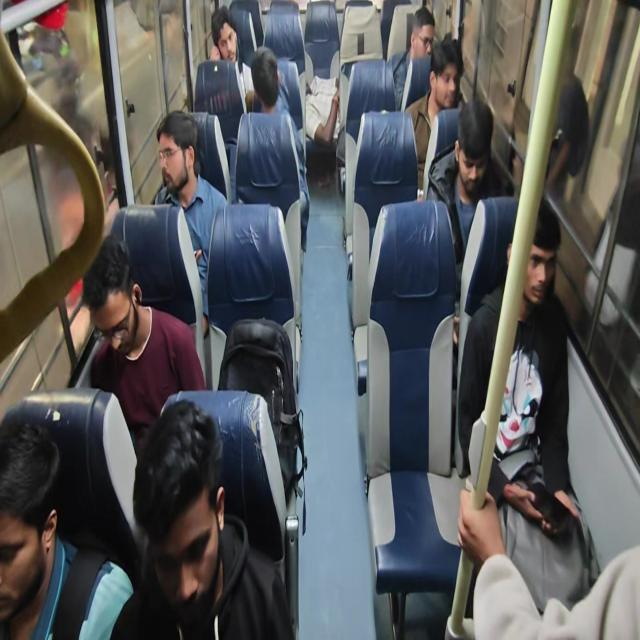person: (455, 196, 595, 614), (109, 398, 295, 638), (0, 24, 106, 364), (0, 416, 134, 639), (70, 234, 206, 453), (456, 481, 640, 638), (152, 110, 228, 333), (426, 97, 504, 264), (249, 45, 310, 250), (403, 37, 462, 197), (545, 71, 589, 201), (390, 6, 436, 110), (207, 5, 253, 100), (304, 74, 340, 146), (208, 4, 238, 62)
